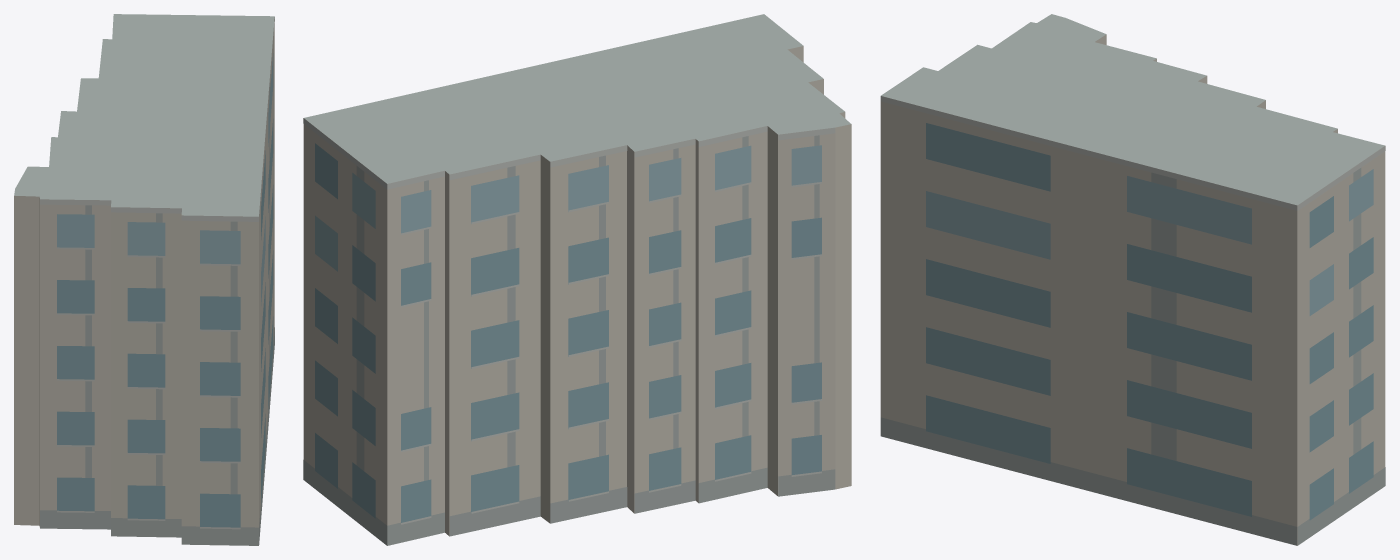
Rendered from survey-upis-32677934.glb.
3 views of the same model, side by side, from view 1: azimuth 30°, elevation 25°; view 2: azimuth 150°, elevation 25°; view 3: azimuth 270°, elevation 25° (orthographic). The views are drawn at different scales.
Visible parts, largest first — view 1: survey-upis-32677934.tmp; view 2: survey-upis-32677934.tmp; view 3: survey-upis-32677934.tmp.
Part boxes in pixels (left/top/right/bottom): survey-upis-32677934.tmp: left=14, top=14, right=274, bottom=545; survey-upis-32677934.tmp: left=303, top=14, right=851, bottom=545; survey-upis-32677934.tmp: left=880, top=14, right=1385, bottom=545.
Size of the model in its own units: 18.4 by 15.25 by 20.5.
